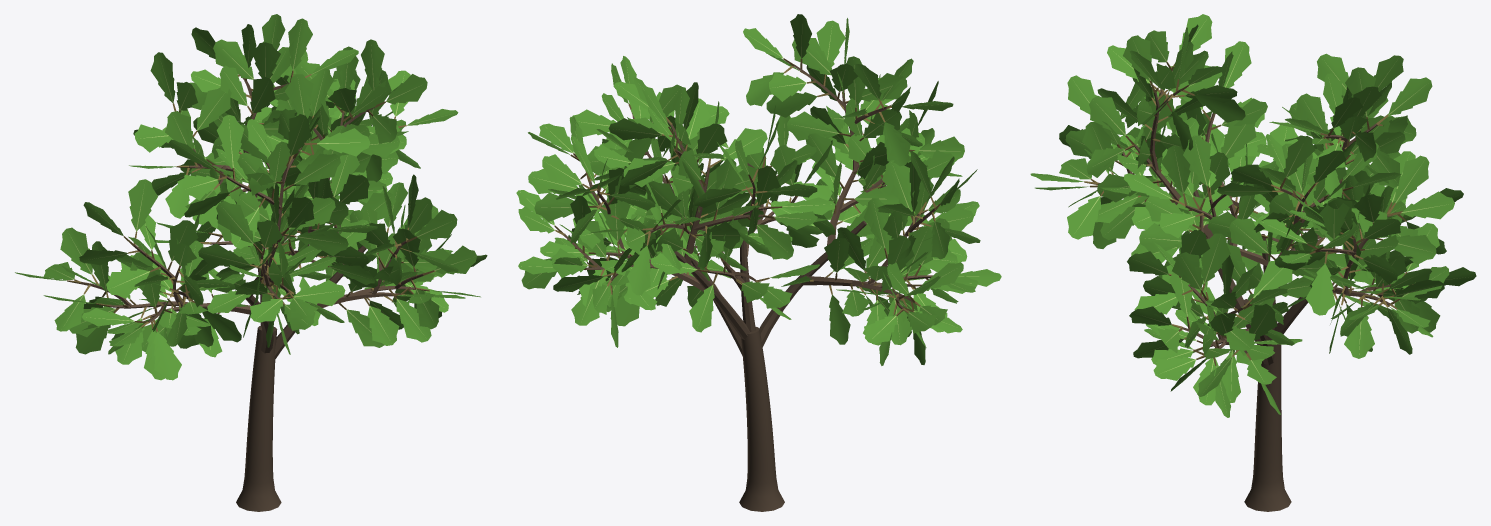
3 views of the same model, side by side, from view 1: azimuth 30°, elevation 25°; view 2: azimuth 150°, elevation 25°; view 3: azimuth 270°, elevation 25° (orthographic). The views are drawn at different scales.
Visible parts, largest first — view 1: body; view 2: body; view 3: body.
Boxes of the visible parts, <box> form: body: <box>15,14,487,511</box>; body: <box>516,14,1001,511</box>; body: <box>1030,14,1476,511</box>.
Bounding box in the file's own units: 3.59 × 3.76 × 3.21.
1 material, 1 textured.
